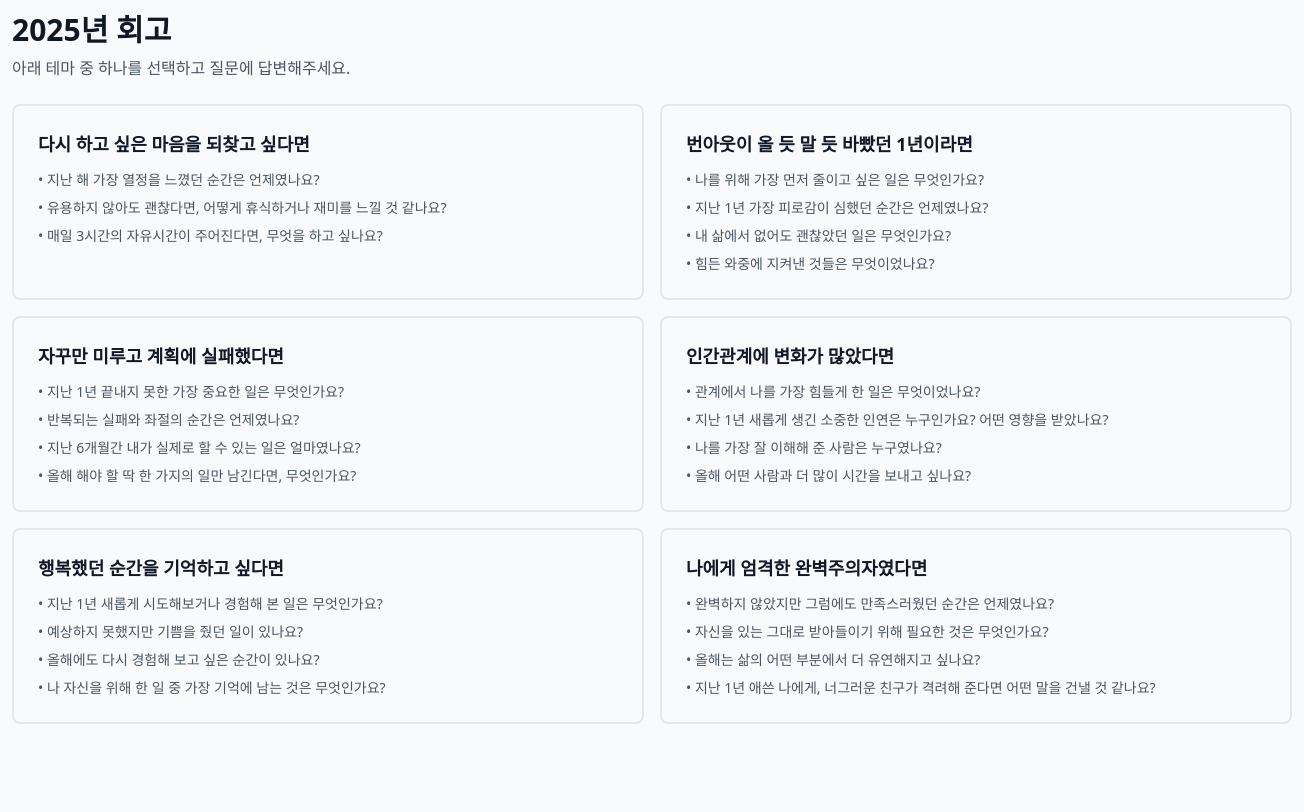
it: Day1Reflection › Change Theme › should allow changing theme before saving
This screenshot has width=1304, height=812.
Click the heading "다시 하고 싶은 마음을 되찾고 싶다면": (174, 144) [38,132,310,156]
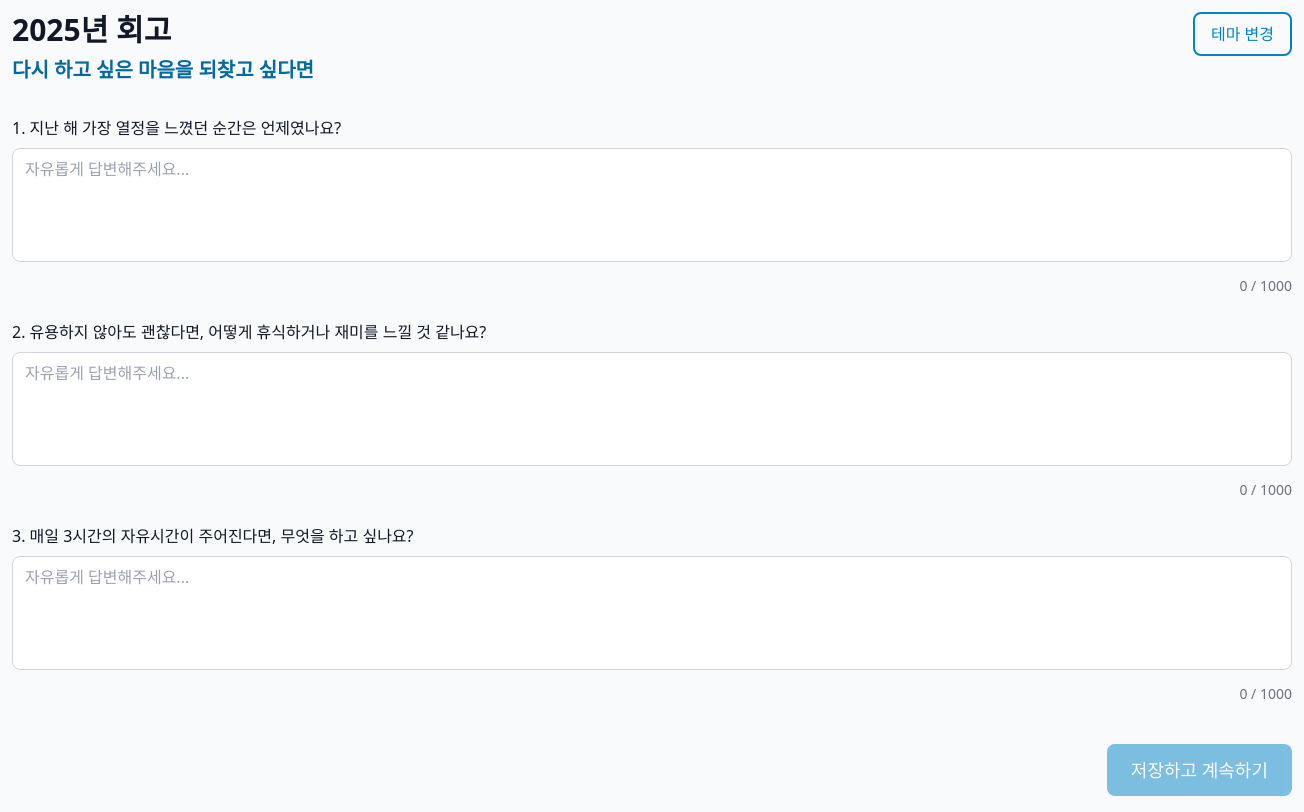
Expected: the button "테마 변경" is shown
# Click change theme button
Click the button "테마 변경": (1242, 34) [1193,12,1292,56]
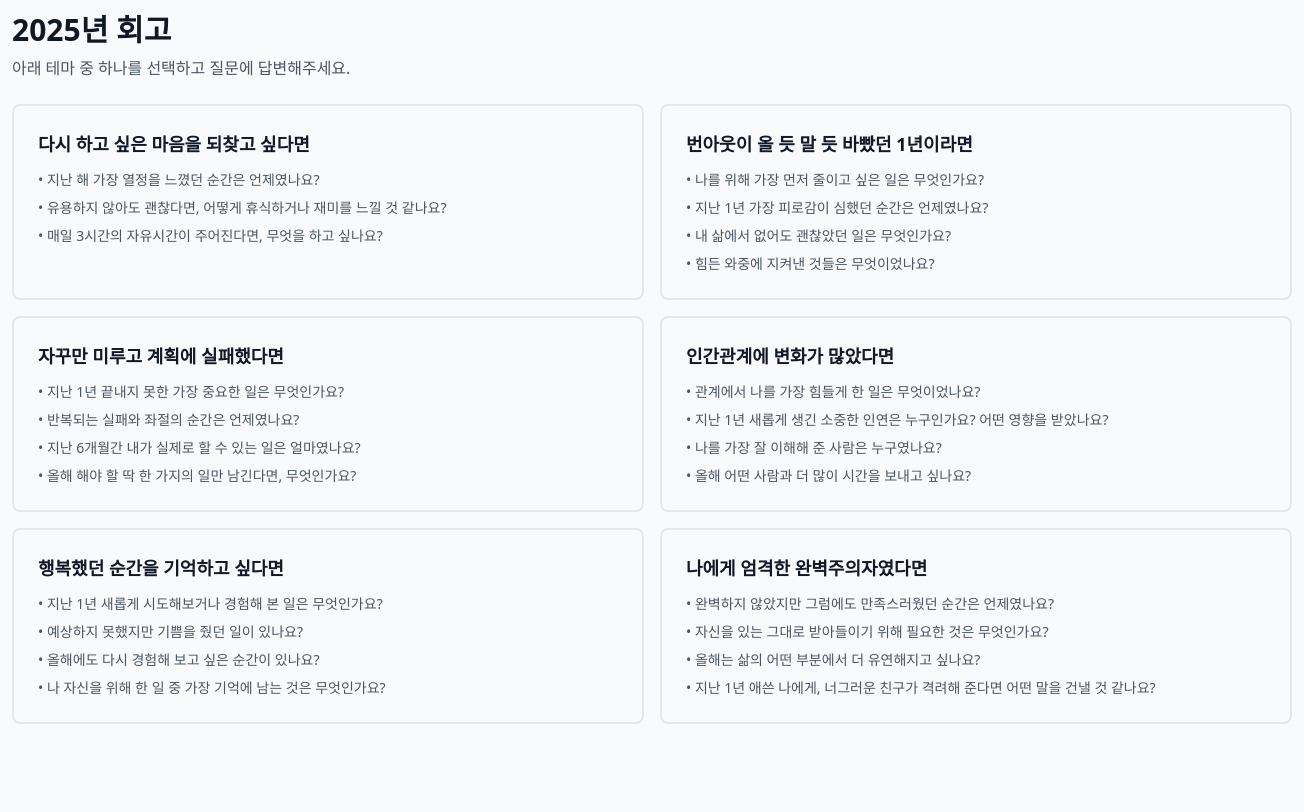
Expected: the heading "번아웃이 올 듯 말 듯 바빴던 1년이라면" is shown, [686,132,973,156]
Expected: the heading "자꾸만 미루고 계획에 실패했다면" is shown, [38,344,284,368]
Expected: the heading "인간관계에 변화가 많았다면" is shown, [686,344,894,368]
